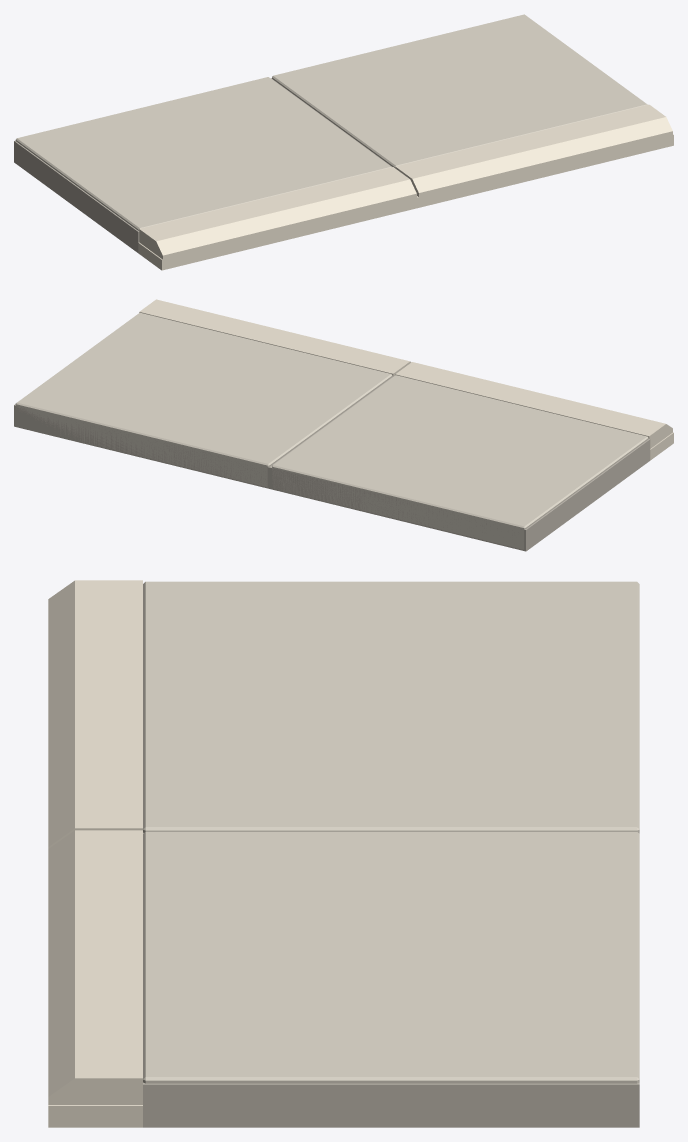
The model's file is sidewalk_straight.glb.
3 views of the same model, one above another, from view 1: azimuth 30°, elevation 25°; view 2: azimuth 150°, elevation 25°; view 3: azimuth 270°, elevation 25° (orthographic). The views are drawn at different scales.
Visible parts, largest first — view 1: ModelMesh; view 2: ModelMesh; view 3: ModelMesh.
Boxes of the visible parts, box(x1,y1,x2,y2) form: ModelMesh: box(14, 14, 673, 270); ModelMesh: box(14, 299, 673, 551); ModelMesh: box(48, 580, 639, 1127).
Size of the model in its own units: 4 by 0.18 by 2.
